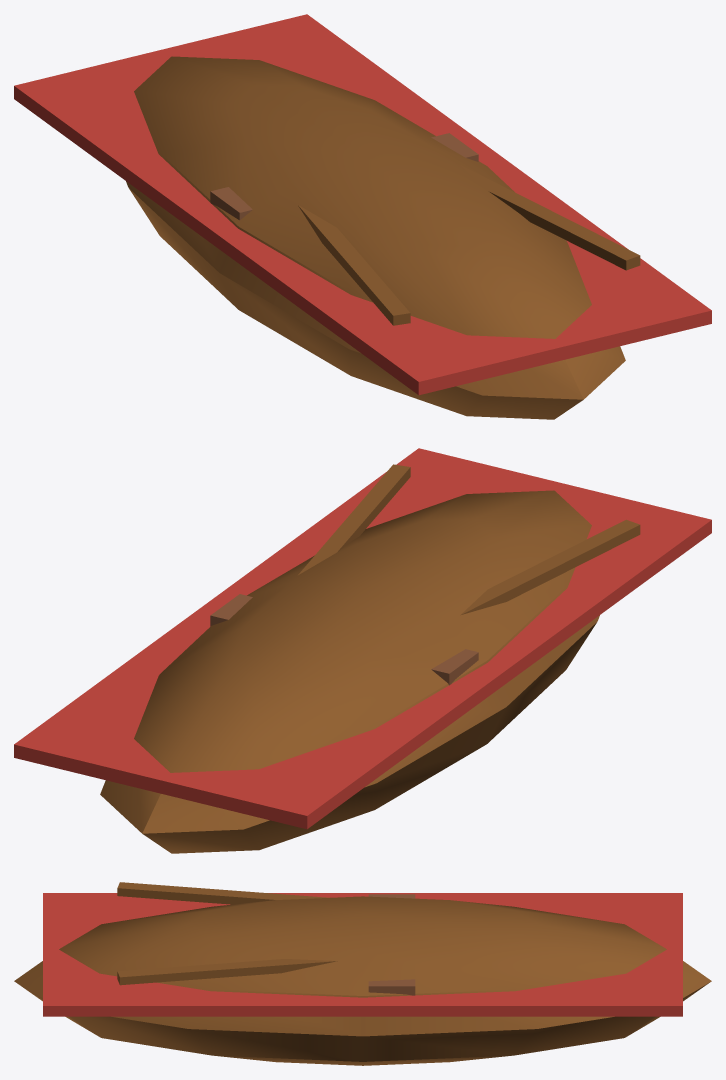
Rendered from PR_Nature_Kayik.fbx.
The picture shows the model from 3 angles, top to bottom: view 1: azimuth 30°, elevation 25°; view 2: azimuth 150°, elevation 25°; view 3: azimuth 270°, elevation 25°; orthographic projection. The views are drawn at different scales.
Parts seen in each view (by area): view 1: PR_Nature_Kayik; view 2: PR_Nature_Kayik; view 3: PR_Nature_Kayik.
Part boxes in pixels (left/top/right/bottom): PR_Nature_Kayik: left=14, top=14, right=711, bottom=419; PR_Nature_Kayik: left=14, top=448, right=711, bottom=853; PR_Nature_Kayik: left=14, top=882, right=711, bottom=1065.
Bounding box in the file's own units: 0.92 × 0.5 × 2.4.
1 material, 1 textured.
